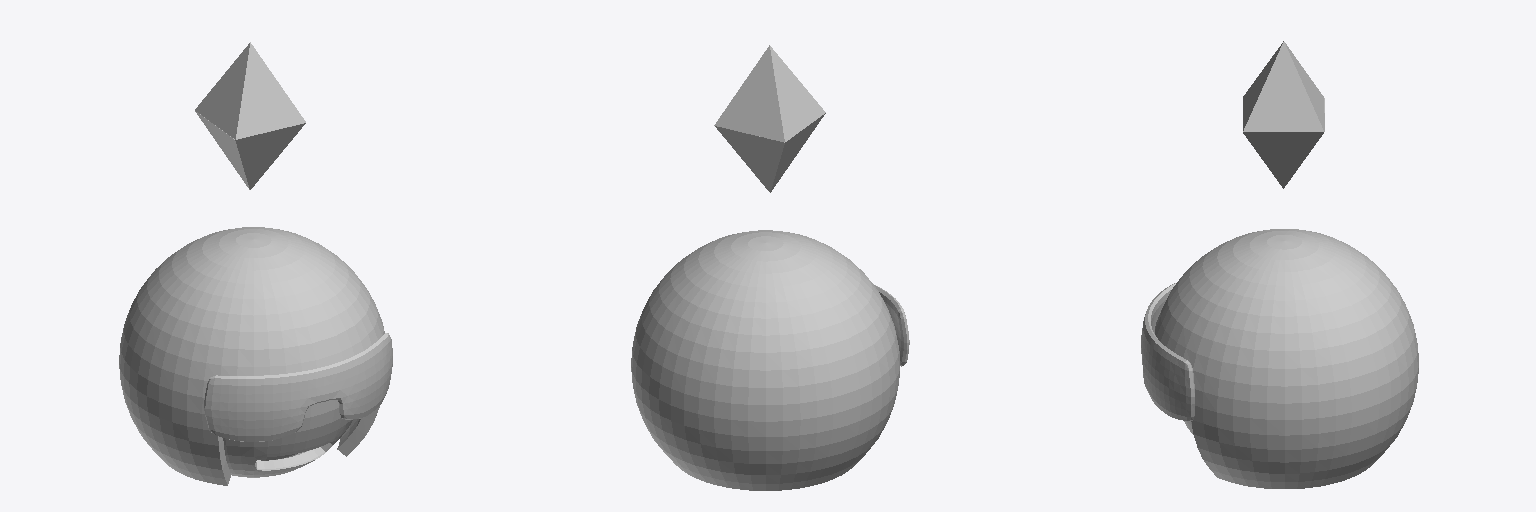
The model's file is _full_model.obj.
3 renders of one model, left to right at view 1: azimuth 30°, elevation 25°; view 2: azimuth 150°, elevation 25°; view 3: azimuth 270°, elevation 25°, orthographic.
Visible parts, largest first — view 1: peg_head_ui pegman_head peg_head HyperNURBS HELMET HELMET1, Glasses Glasses_1, peg_head_ui compass_point Pyramid_1, peg_head_ui pegman_head peg_head HyperNURBS_1 HEAD, peg_head_ui compass_point Pyramid; view 2: peg_head_ui pegman_head peg_head HyperNURBS HELMET HELMET1, peg_head_ui compass_point Pyramid_1, peg_head_ui compass_point Pyramid, Glasses Glasses_1; view 3: peg_head_ui pegman_head peg_head HyperNURBS HELMET HELMET1, peg_head_ui compass_point Pyramid_1, Glasses Glasses_1, peg_head_ui compass_point Pyramid.
Part boxes in pixels (x1,y1,x2,y2): peg_head_ui pegman_head peg_head HyperNURBS HELMET HELMET1: (119,227,384,485); Glasses Glasses_1: (204,333,392,441); peg_head_ui compass_point Pyramid_1: (195,42,305,139); peg_head_ui pegman_head peg_head HyperNURBS_1 HEAD: (223,400,352,477); peg_head_ui compass_point Pyramid: (195,111,305,189); peg_head_ui pegman_head peg_head HyperNURBS HELMET HELMET1: (631,230,899,490); peg_head_ui compass_point Pyramid_1: (714,45,825,141); peg_head_ui compass_point Pyramid: (715,113,825,192); Glasses Glasses_1: (873,284,909,366); peg_head_ui pegman_head peg_head HyperNURBS HELMET HELMET1: (1155,229,1418,488); peg_head_ui compass_point Pyramid_1: (1243,41,1324,131); Glasses Glasses_1: (1141,283,1194,421); peg_head_ui compass_point Pyramid: (1243,98,1324,188).
Bounding box in the file's own units: 104 × 181 × 107.